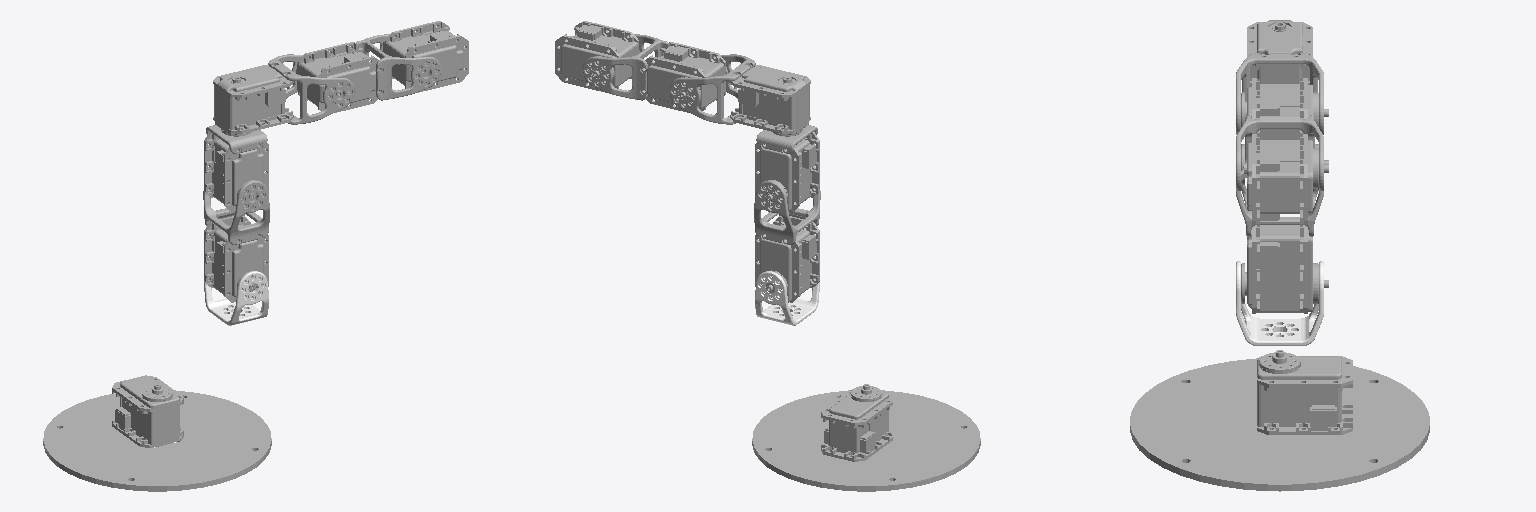
robot.urdf — Poppy_Ergo:
<robot
  name="Poppy_Ergo">
  <link
    name="base_link">
    <inertial>
      <origin
        xyz="0.0163978477654866 -1.71431938504994E-10 0.0254956214252923"
        rpy="0 0 0" />
      <mass
        value="0.236367489201289" />
      <inertia
        ixx="0.000155083721033325"
        ixy="-5.60897331245352E-12"
        ixz="8.00638523837317E-05"
        iyy="0.000332689840961739"
        iyz="-1.84605791381731E-12"
        izz="0.000313097273513157" />
    </inertial>
    <visual>
      <origin
        xyz="0 0 0"
        rpy="0 0 0" />
      <geometry>
        <mesh
          filename="package://Poppy_Ergo/meshes/base_link.STL" />
      </geometry>
      <material
        name="">
        <color
          rgba="0.752941176470588 0.752941176470588 0.752941176470588 1" />
      </material>
    </visual>
    <collision>
      <origin
        xyz="0 0 0"
        rpy="0 0 0" />
      <geometry>
        <mesh
          filename="package://Poppy_Ergo/meshes/base_link.STL" />
      </geometry>
    </collision>
  </link>
  <link
    name="U_shape">
    <inertial>
      <origin
        xyz="-9.0135144435931E-06 -4.79439299625271E-07 0.0127888567972571"
        rpy="0 0 0" />
      <mass
        value="0.00558464092794276" />
      <inertia
        ixx="1.34906671319978E-06"
        ixy="-6.75990848369924E-15"
        ixz="-9.29009963094499E-10"
        iyy="2.56110628664785E-06"
        iyz="2.75193579105782E-11"
        izz="2.08267318891963E-06" />
    </inertial>
    <visual>
      <origin
        xyz="0 0 0"
        rpy="0 0 0" />
      <geometry>
        <mesh
          filename="package://Poppy_Ergo/meshes/U_shape.STL" />
      </geometry>
      <material
        name="">
        <color
          rgba="1 1 1 1" />
      </material>
    </visual>
    <collision>
      <origin
        xyz="0 0 0"
        rpy="0 0 0" />
      <geometry>
        <mesh
          filename="package://Poppy_Ergo/meshes/U_shape.STL" />
      </geometry>
    </collision>
  </link>
  <joint
    name="m1"
    type="revolute">
    <origin
      xyz="0.0640000000000018 0 0.0655"
      rpy="0 0 1.5707963267949" />
    <parent
      link="base_link" />
    <child
      link="U_shape" />
    <axis
      xyz="0 0 -1" />
  </joint>
  <link
    name="module_1">
    <inertial>
      <origin
        xyz="6.66582617805677E-05 0.0136707153891935 1.66500336885248E-09"
        rpy="0 0 0" />
      <mass
        value="0.0828710129917629" />
      <inertia
        ixx="2.88062730023944E-05"
        ixy="-4.09554327586616E-07"
        ixz="6.38108453423583E-13"
        iyy="1.69994170124809E-05"
        iyz="-3.08389647180142E-12"
        izz="3.50518702052006E-05" />
    </inertial>
    <visual>
      <origin
        xyz="0 0 0"
        rpy="0 0 0" />
      <geometry>
        <mesh
          filename="package://Poppy_Ergo/meshes/module_1.STL" />
      </geometry>
      <material
        name="">
        <color
          rgba="0.752941176470588 0.752941176470588 0.752941176470588 1" />
      </material>
    </visual>
    <collision>
      <origin
        xyz="0 0 0"
        rpy="0 0 0" />
      <geometry>
        <mesh
          filename="package://Poppy_Ergo/meshes/module_1.STL" />
      </geometry>
    </collision>
  </link>
  <joint
    name="m2"
    type="revolute">
    <origin
      xyz="0 0 0.03"
      rpy="1.5707963267949 0 0" />
    <parent
      link="U_shape" />
    <child
      link="module_1" />
    <axis
      xyz="-1 0 0" />
  </joint>
  <link
    name="base_module_2">
    <inertial>
      <origin
        xyz="6.95288960761879E-05 0.0119296679398612 -3.16465433660052E-08"
        rpy="0 0 0" />
      <mass
        value="0.0801745189883131" />
      <inertia
        ixx="2.09487833858293E-05"
        ixy="-3.96948281059569E-07"
        ixz="1.02564916158594E-12"
        iyy="1.5217690060328E-05"
        iyz="-7.79394247630747E-11"
        izz="2.60459989458758E-05" />
    </inertial>
    <visual>
      <origin
        xyz="0 0 0"
        rpy="0 0 0" />
      <geometry>
        <mesh
          filename="package://Poppy_Ergo/meshes/base_module_2.STL" />
      </geometry>
      <material
        name="">
        <color
          rgba="0.752941176470588 0.752941176470588 0.752941176470588 1" />
      </material>
    </visual>
    <collision>
      <origin
        xyz="0 0 0"
        rpy="0 0 0" />
      <geometry>
        <mesh
          filename="package://Poppy_Ergo/meshes/base_module_2.STL" />
      </geometry>
    </collision>
  </link>
  <joint
    name="m3"
    type="revolute">
    <origin
      xyz="0 0.07 0"
      rpy="0 0 0" />
    <parent
      link="module_1" />
    <child
      link="base_module_2" />
    <axis
      xyz="-1 0 0" />
  </joint>
  <link
    name="tip_module_1">
    <inertial>
      <origin
        xyz="-6.34242105548254E-07 0.0252195127975511 0.0138606871757107"
        rpy="0 0 0" />
      <mass
        value="0.0798894067290251" />
      <inertia
        ixx="3.21637538434065E-05"
        ixy="-4.09396300408812E-11"
        ixz="-2.90206972581769E-09"
        iyy="2.91605535024096E-05"
        iyz="1.02861084169926E-06"
        izz="1.61375786722674E-05" />
    </inertial>
    <visual>
      <origin
        xyz="0 0 0"
        rpy="0 0 0" />
      <geometry>
        <mesh
          filename="package://Poppy_Ergo/meshes/tip_module_1.STL" />
      </geometry>
      <material
        name="">
        <color
          rgba="0.752941176470588 0.752941176470588 0.752941176470588 1" />
      </material>
    </visual>
    <collision>
      <origin
        xyz="0 0 0"
        rpy="0 0 0" />
      <geometry>
        <mesh
          filename="package://Poppy_Ergo/meshes/tip_module_1.STL" />
      </geometry>
    </collision>
  </link>
  <joint
    name="m4"
    type="revolute">
    <origin
      xyz="0 0.03715 0"
      rpy="0 0 0" />
    <parent
      link="base_module_2" />
    <child
      link="tip_module_1" />
    <axis
      xyz="0 1 0" />
  </joint>
  <link
    name="tip_middle">
    <inertial>
      <origin
        xyz="6.66582612471141E-05 0.0136707153898319 1.66494479314494E-09"
        rpy="0 0 0" />
      <mass
        value="0.0828710129932392" />
      <inertia
        ixx="2.88062729999838E-05"
        ixy="-4.0955432788807E-07"
        ixz="6.3828751166269E-13"
        iyy="1.6999417013432E-05"
        iyz="-3.08409309750258E-12"
        izz="3.50518702037789E-05" />
    </inertial>
    <visual>
      <origin
        xyz="0 0 0"
        rpy="0 0 0" />
      <geometry>
        <mesh
          filename="package://Poppy_Ergo/meshes/tip_middle.STL" />
      </geometry>
      <material
        name="">
        <color
          rgba="0.752941176470588 0.752941176470588 0.752941176470588 1" />
      </material>
    </visual>
    <collision>
      <origin
        xyz="0 0 0"
        rpy="0 0 0" />
      <geometry>
        <mesh
          filename="package://Poppy_Ergo/meshes/tip_middle.STL" />
      </geometry>
    </collision>
  </link>
  <joint
    name="m5"
    type="revolute">
    <origin
      xyz="0 0.0258500000000001 0.0702000000000001"
      rpy="1.5707963267949 0 0" />
    <parent
      link="tip_module_1" />
    <child
      link="tip_middle" />
    <axis
      xyz="-1 0 0" />
  </joint>
  <link
    name="tip">
    <inertial>
      <origin
        xyz="0.00067468641832957 0.0111032439671431 1.84814963333224E-09"
        rpy="0 0 0" />
      <mass
        value="0.074656095140621" />
      <inertia
        ixx="1.76738469432723E-05"
        ixy="-8.89711701945556E-07"
        ixz="7.53684143990465E-13"
        iyy="1.35368429876183E-05"
        iyz="-2.72984465867865E-12"
        izz="2.17101807126311E-05" />
    </inertial>
    <visual>
      <origin
        xyz="0 0 0"
        rpy="0 0 0" />
      <geometry>
        <mesh
          filename="package://Poppy_Ergo/meshes/tip.STL" />
      </geometry>
      <material
        name="">
        <color
          rgba="0.752941176470588 0.752941176470588 0.752941176470588 1" />
      </material>
    </visual>
    <collision>
      <origin
        xyz="0 0 0"
        rpy="0 0 0" />
      <geometry>
        <mesh
          filename="package://Poppy_Ergo/meshes/tip.STL" />
      </geometry>
    </collision>
  </link>
  <joint
    name="m6"
    type="revolute">
    <origin
      xyz="0 0.07 0"
      rpy="0 0 -9.36192041654558E-16" />
    <parent
      link="tip_middle" />
    <child
      link="tip" />
    <axis
      xyz="-1 0 0" />
  </joint>
</robot>

--- What the picture shows (computed from the rendered views, not written in the file) ---
The picture shows the robot from 3 angles, left to right: view 1: azimuth 30°, elevation 25°; view 2: azimuth 150°, elevation 25°; view 3: azimuth 270°, elevation 25°; orthographic projection.
Model Poppy_Ergo with 7 links and 6 joints (6 revolute), rooted at base_link, posed all joints at 0.
Links seen in each view (by area): view 1: base_link, tip_module_1, module_1, tip_middle, base_module_2, tip, U_shape; view 2: base_link, tip_module_1, module_1, tip_middle, base_module_2, tip, U_shape; view 3: base_link, module_1, tip, tip_module_1, tip_middle, U_shape.
Boxes of the visible links, box(x1,y1,x2,y2) form: base_link: box(43, 375, 271, 491); tip_module_1: box(213, 54, 354, 136); module_1: box(203, 180, 269, 302); tip_middle: box(296, 34, 440, 112); base_module_2: box(204, 125, 268, 211); tip: box(382, 21, 468, 92); U_shape: box(204, 271, 268, 325); base_link: box(752, 384, 980, 491); tip_module_1: box(669, 54, 810, 136); module_1: box(754, 180, 820, 302); tip_middle: box(583, 34, 727, 112); base_module_2: box(755, 125, 819, 211); tip: box(555, 21, 639, 92); U_shape: box(755, 271, 819, 325); base_link: box(1130, 350, 1429, 491); module_1: box(1236, 185, 1328, 313); tip: box(1244, 134, 1328, 224); tip_module_1: box(1236, 20, 1323, 134); tip_middle: box(1236, 78, 1328, 190); U_shape: box(1236, 261, 1323, 345).
Size in the robot's own frame: 0.3228 by 0.1599 by 0.267 metres.
Meshes: 7 distinct files referenced, 7 mesh visuals loaded (7 binary STL).
